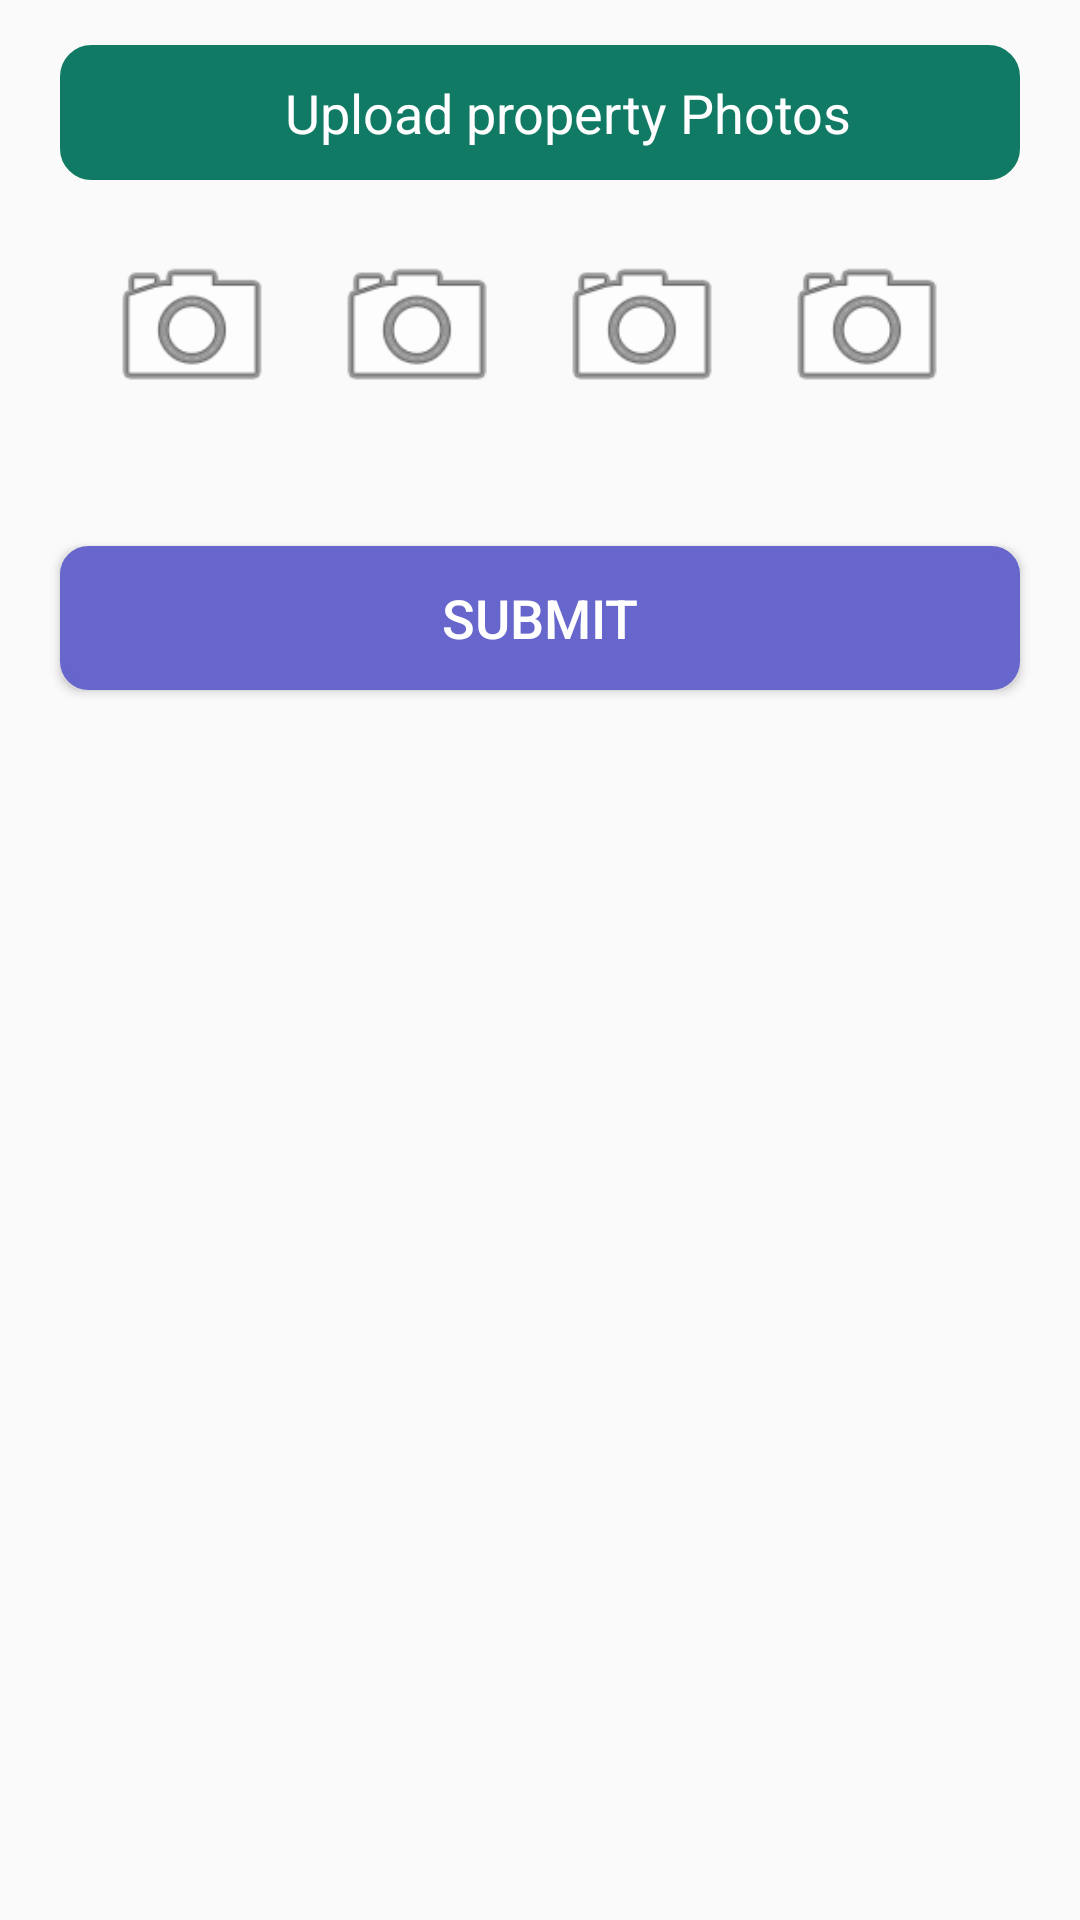

Icon click points for this 1080*1920 phone screenshot, format (x=x, y=y):
camera: (x=192, y=324), (x=417, y=324), (x=642, y=324), (x=867, y=324)
